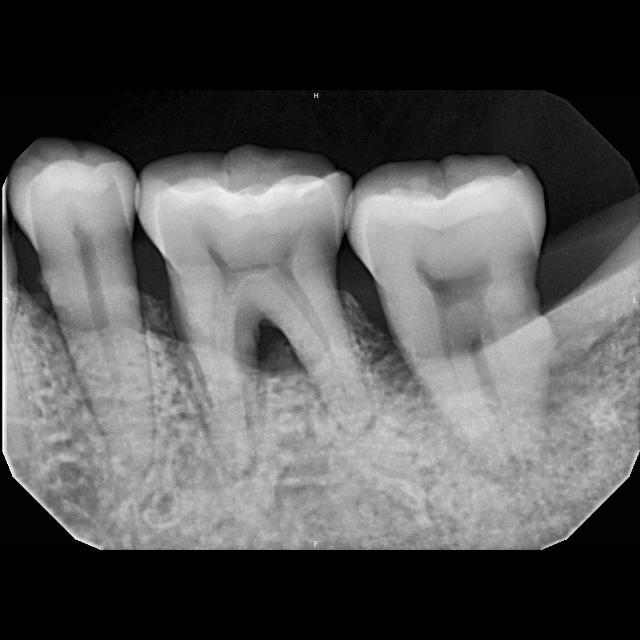tooth: (9, 138, 155, 475)
